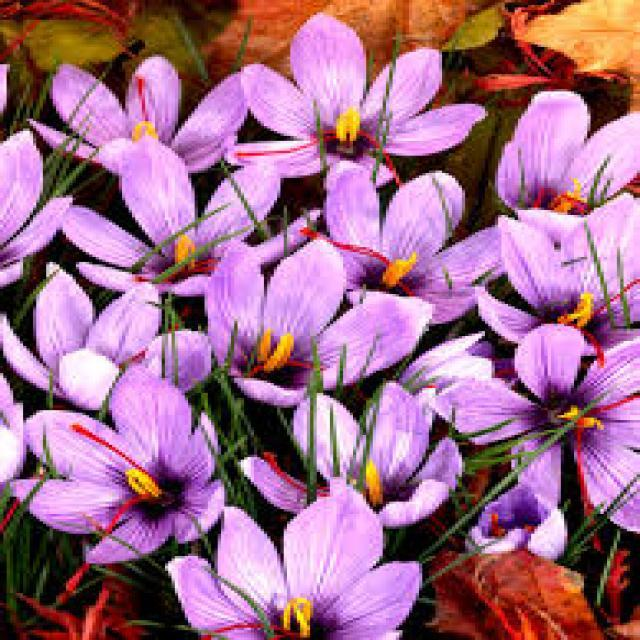Flower: (152, 502, 504, 640), (192, 227, 428, 416), (24, 406, 288, 573), (241, 10, 472, 186), (7, 264, 224, 433), (443, 318, 640, 504), (53, 131, 267, 277), (290, 151, 474, 307), (35, 40, 252, 164), (474, 208, 640, 362), (501, 74, 640, 210)
stigma: (70, 417, 150, 486), (302, 225, 389, 272), (570, 406, 604, 511), (261, 446, 319, 494), (357, 458, 381, 515)
